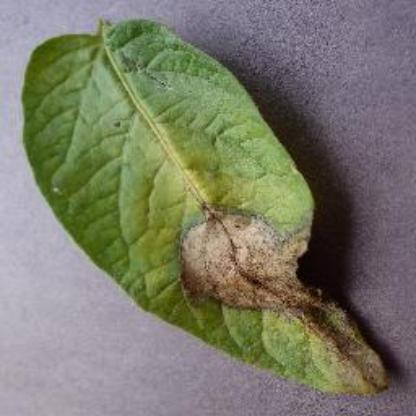Late-Blight: (17, 10, 393, 400)
